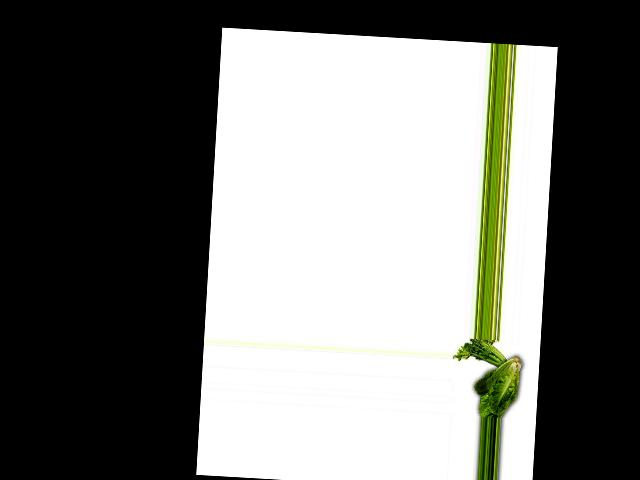lettuce: (467, 350, 520, 419)
